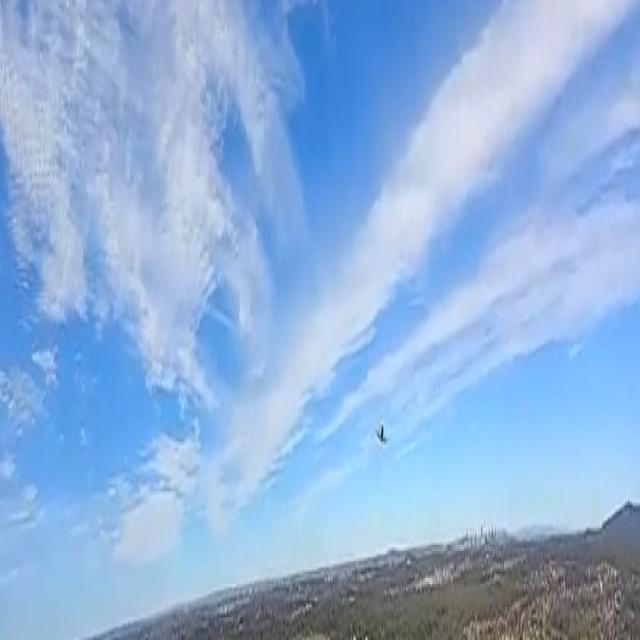iha: (376, 421, 388, 447)
